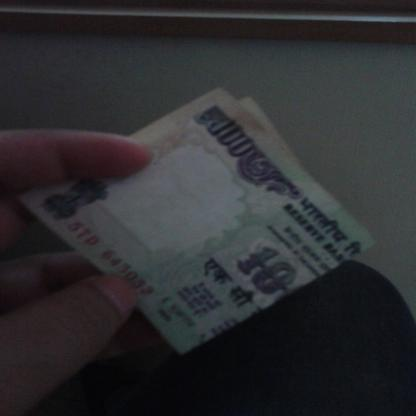Old100Front: (11, 84, 378, 357)
